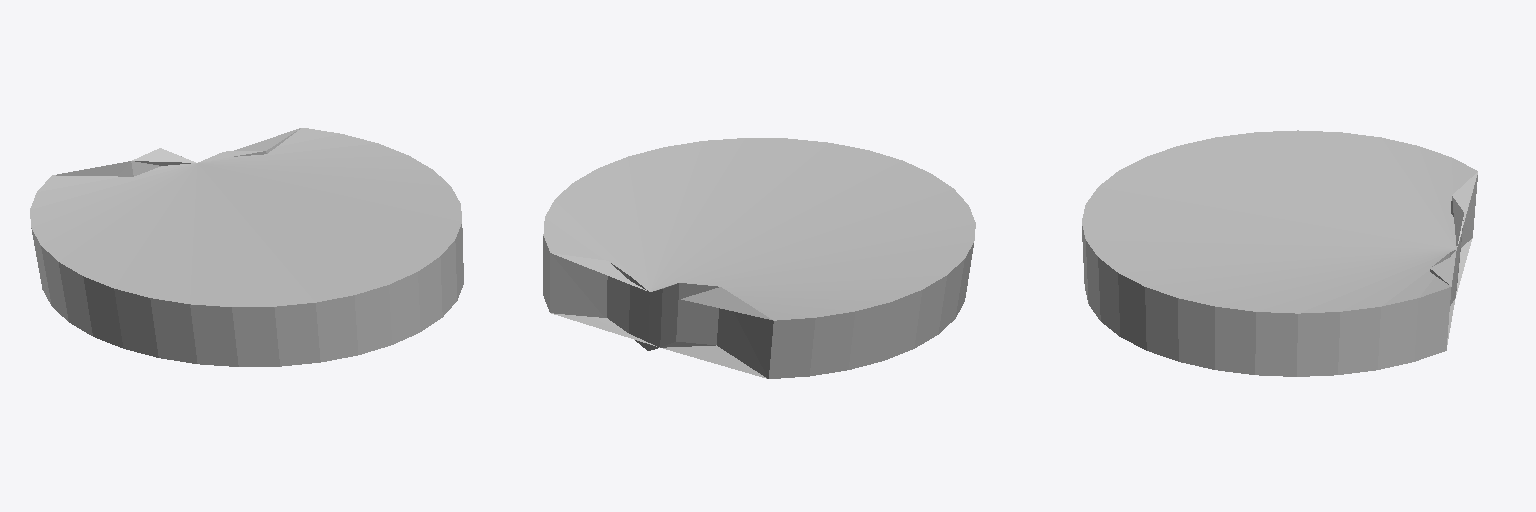
Rendered from obstacle2.obj.
3 renders of one model, left to right at view 1: azimuth 30°, elevation 25°; view 2: azimuth 150°, elevation 25°; view 3: azimuth 270°, elevation 25°, orthographic.
Visible parts, largest first — view 1: Cylinder; view 2: Cylinder; view 3: Cylinder.
Part boxes in pixels (left/top/right/bottom): Cylinder: left=30, top=128, right=463, bottom=366; Cylinder: left=543, top=138, right=975, bottom=378; Cylinder: left=1082, top=130, right=1477, bottom=376.
Size of the model in its own units: 2.76 by 0.583 by 2.52.